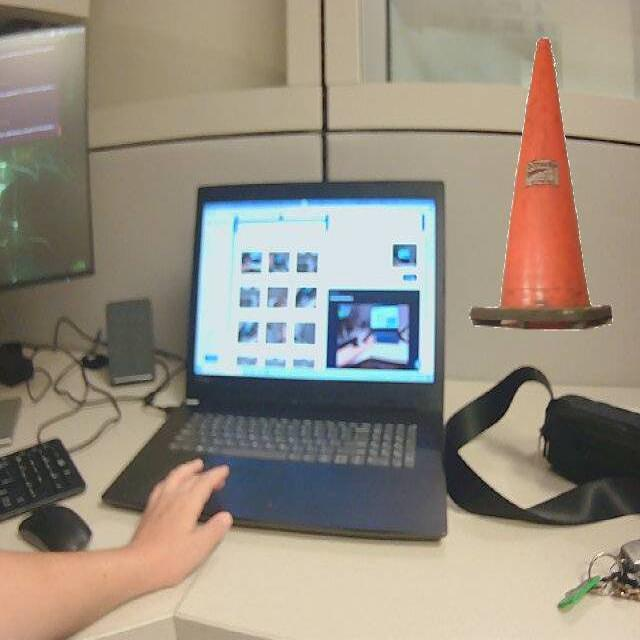traffic cone: (464, 29, 619, 340)
